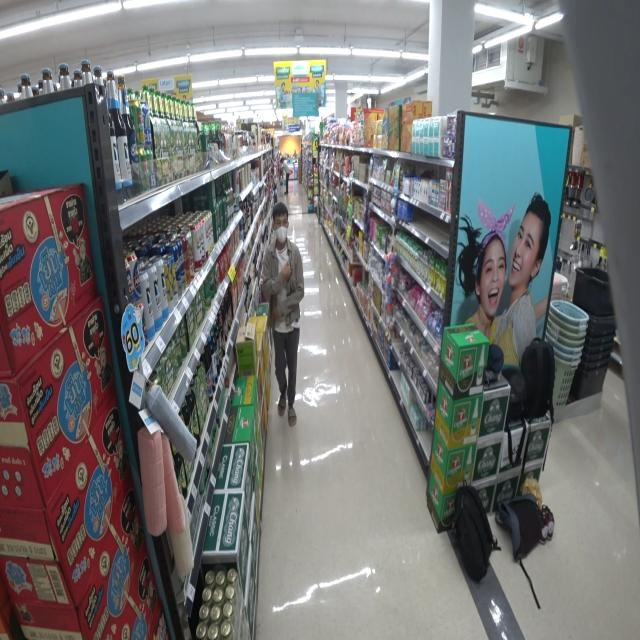shoplifting: (261, 200, 305, 430)
